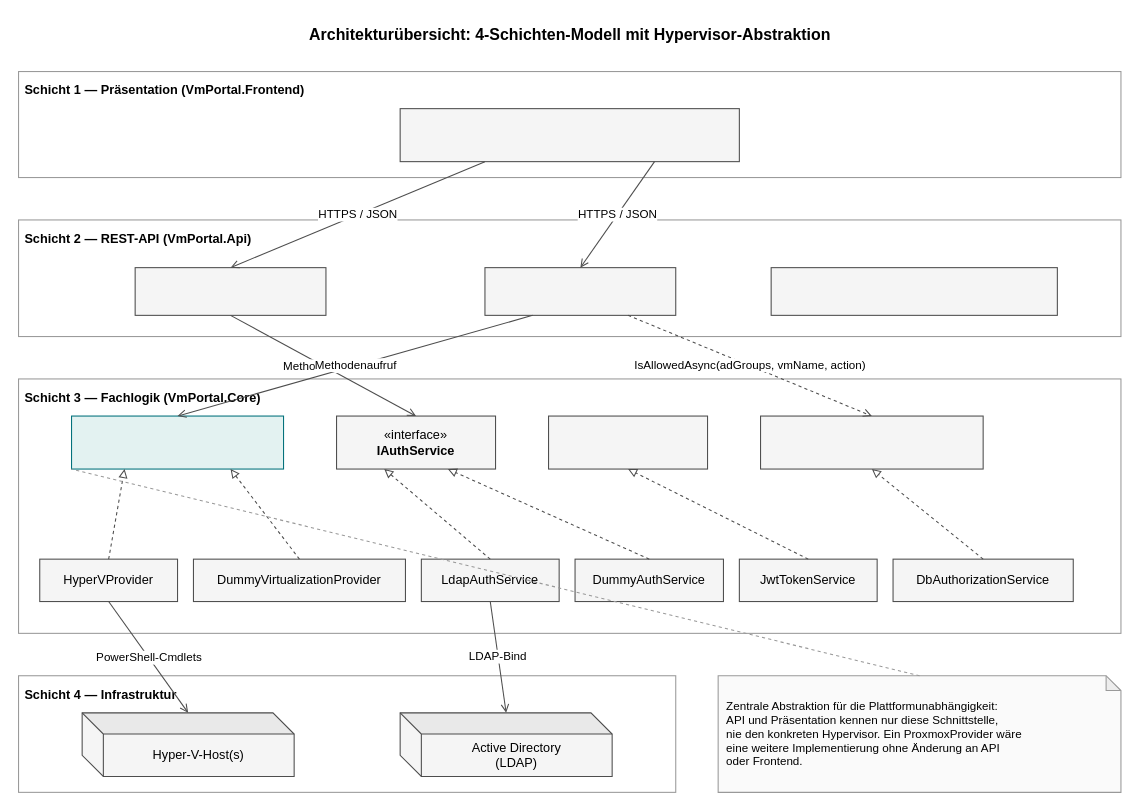
Image size: 1139x811. Some labels were removed from this diagram. The centre of each missing label's shape, as x and y in pixels:
"AuthController" belongs at pixel 230 291.
"React-SPA (Login, VM-Übersicht, VM-Detail)" belongs at pixel 569 135.
"VirtualizationExceptionMiddleware" belongs at pixel 913 291.
"VmController" belongs at pixel 580 291.
"«interface» IDbAuthorizationService" belongs at pixel 871 442.
"«interface» ITokenService" belongs at pixel 627 442.
"«interface» IVirtualizationProvider" belongs at pixel 177 442.
